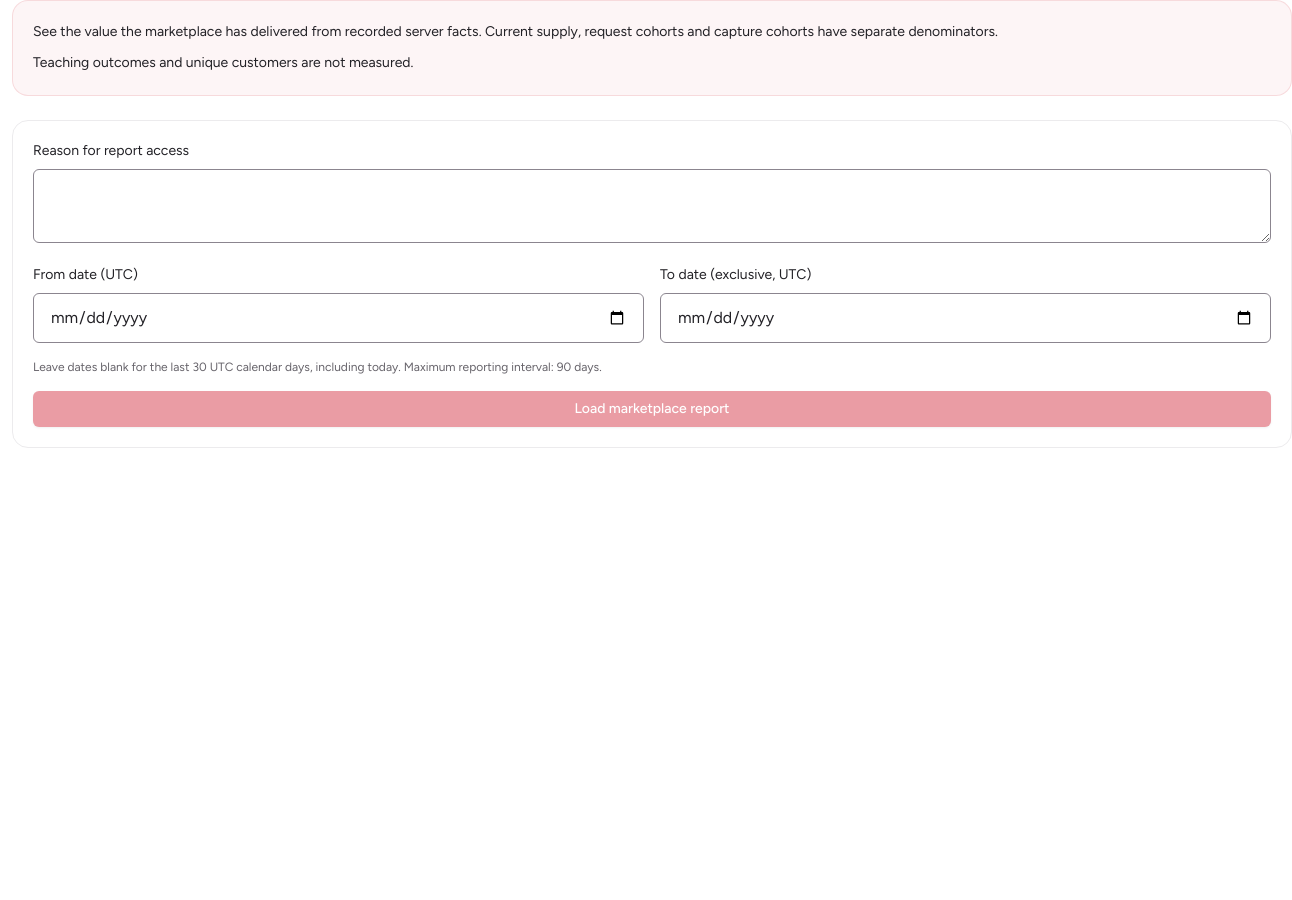
Test: requires Finance MFA and a purpose, shows denominators, and clears a report after access expires
This screenshot has width=1292, height=900.
expect the button "Load marketplace report" is disabled: met, box [33,390,1271,426]
Type "Review delivered matching value by domain" into the text box labelled "Reason for report access".
click(652, 206); type("Review delivered matching value by domain")  # box [33,168,1271,242]
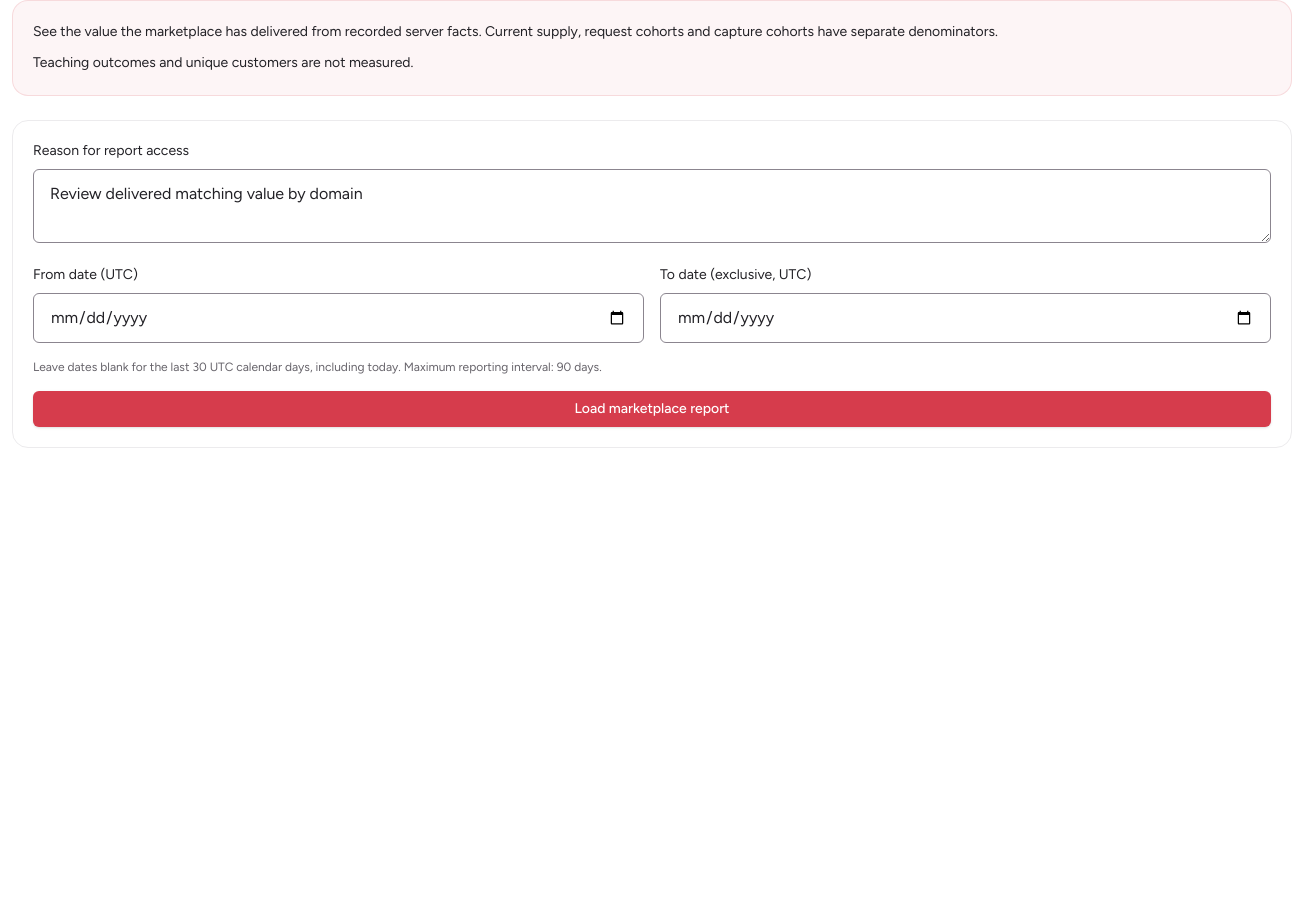
Click the button "Load marketplace report".
click(652, 408)  # box [33,390,1271,426]
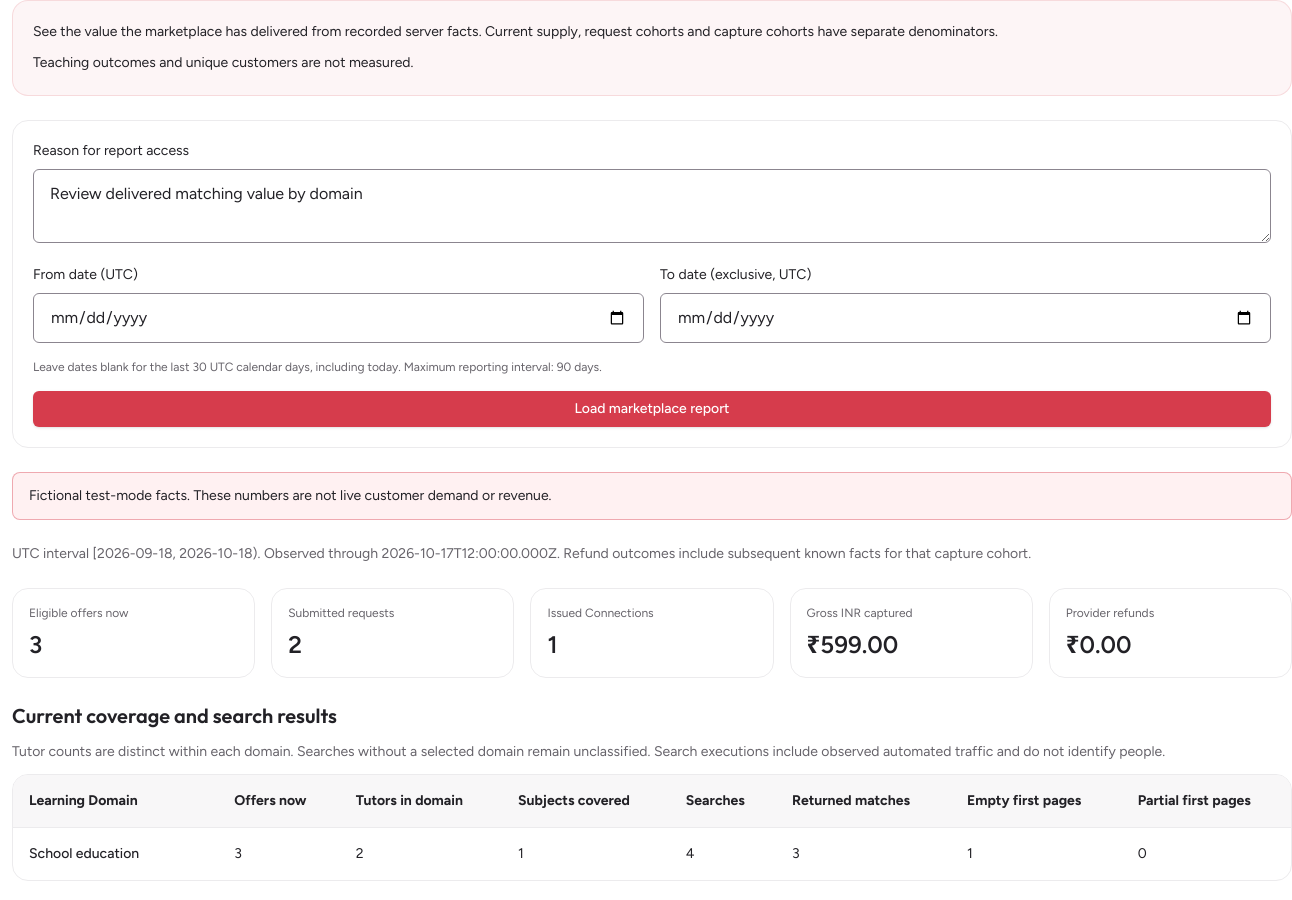
expect the text "Teaching outcomes and unique customers are not measured." is shown: met, box [33,54,413,71]
expect the number of column headings "School education" is 3: met
Click the button "Load marketplace report".
click(652, 408)  # box [33,390,1271,426]
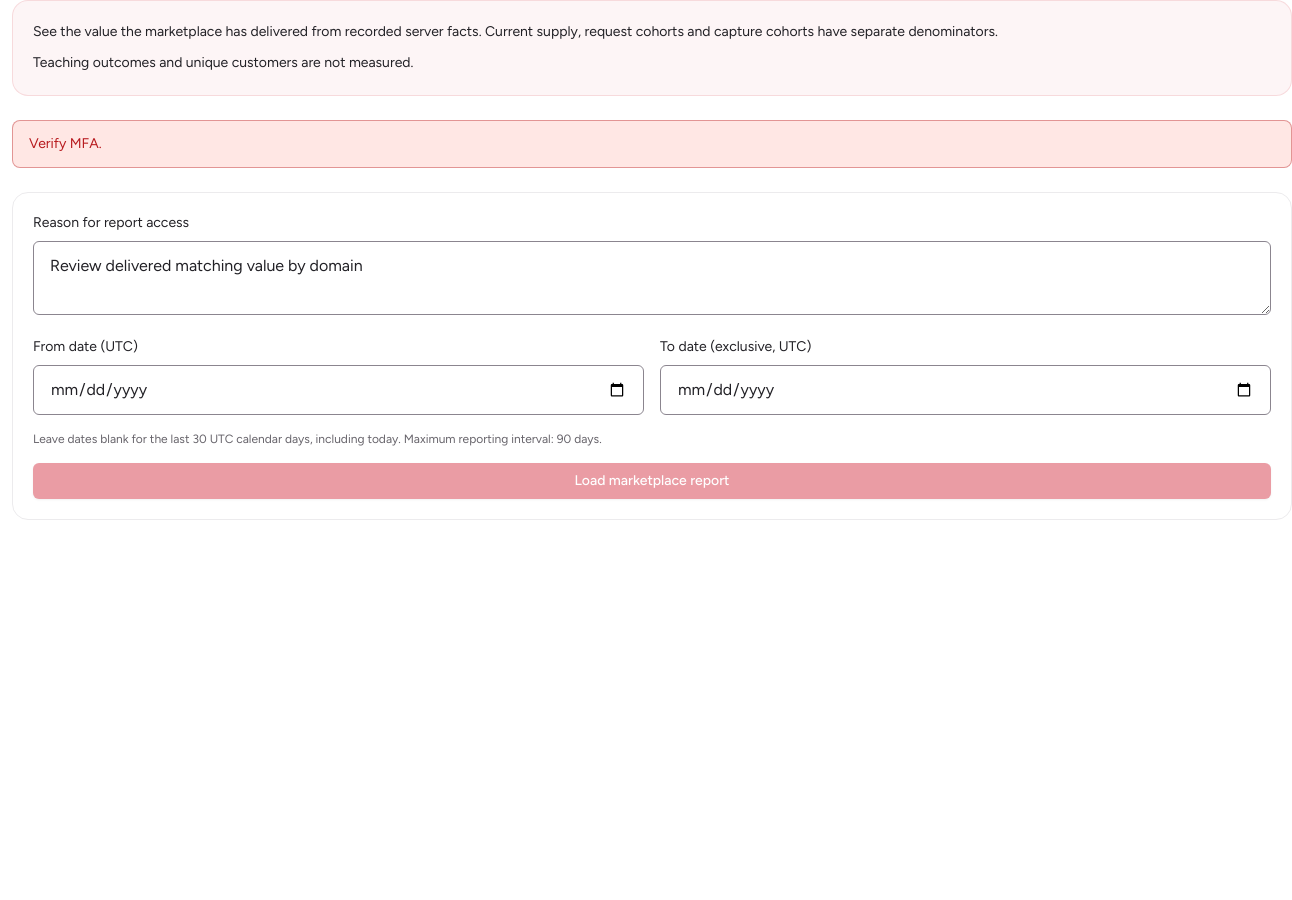
expect the column heading "School education" is gone: met
